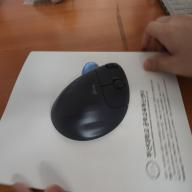mouse: (50, 60, 131, 142)
